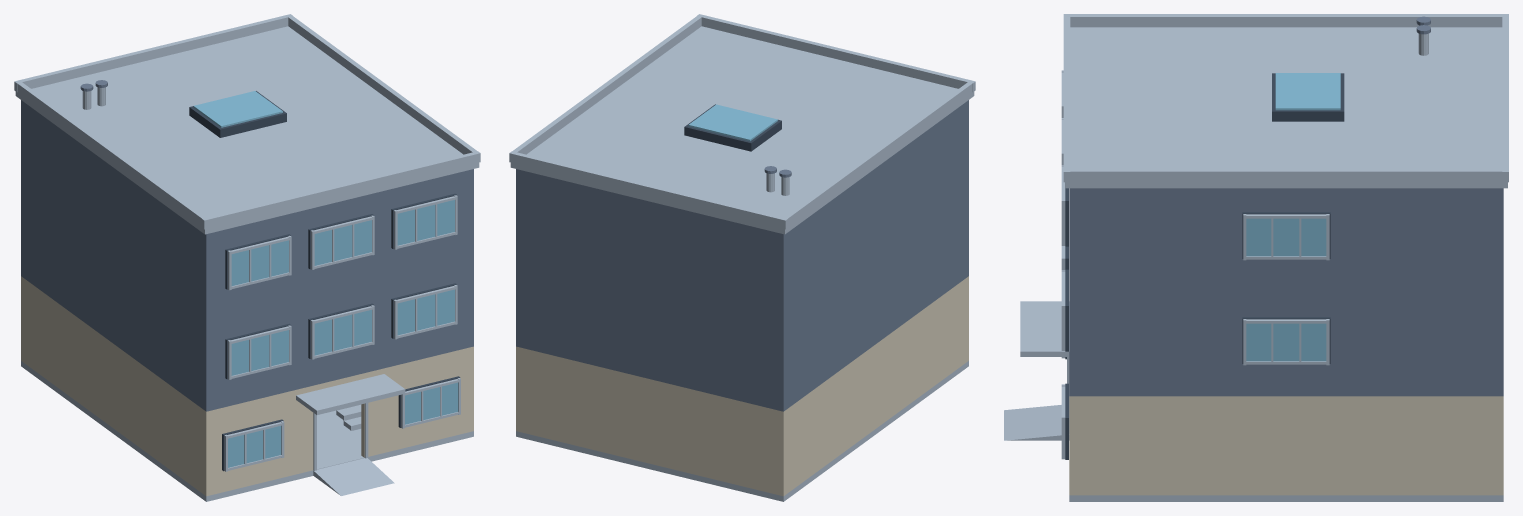
3 views of the same model, side by side, from view 1: azimuth 30°, elevation 25°; view 2: azimuth 150°, elevation 25°; view 3: azimuth 270°, elevation 25° (orthographic). The views are drawn at different scales.
Visible parts, largest first — view 1: Roof slab, Upper wall left, Upper wall left.001, Wall left, Upper wall front, Upper wall front.001, Wall front left, Wall front right, Ground floor, Roof parapet, Roof parapet.001, Roof parapet.002 (+16 smaller); view 2: Roof slab, Upper wall rear, Upper wall rear.001, Wall rear, Upper wall left, Upper wall left.001, Wall left, Roof parapet.001, Roof parapet, Ground floor, Roof parapet.002, Roof parapet.003 (+5 smaller); view 3: Roof slab, Wall right, Upper wall right, Upper wall right.001, Roof parapet.003, Roof parapet.002, Blue window pane.003, Blue window pane.007, Ground floor, Skylight glass, Entrance canopy, Entry ramp (+3 smaller).
Boxes of the visible parts, x1=… form: Roof slab: x1=15, y1=26, x2=479, y2=234; Upper wall left: x1=21, y1=186, x2=211, y2=411; Upper wall left.001: x1=21, y1=100, x2=211, y2=321; Wall left: x1=21, y1=276, x2=211, y2=496; Upper wall front: x1=211, y1=258, x2=468, y2=410; Upper wall front.001: x1=211, y1=170, x2=468, y2=320; Wall front left: x1=211, y1=385, x2=315, y2=494; Wall front right: x1=361, y1=348, x2=468, y2=457; Ground floor: x1=21, y1=361, x2=473, y2=501; Roof parapet: x1=201, y1=151, x2=480, y2=229; Roof parapet.001: x1=14, y1=14, x2=292, y2=91; Roof parapet.002: x1=16, y1=81, x2=207, y2=226; Roof slab: x1=510, y1=26, x2=974, y2=234; Upper wall rear: x1=521, y1=258, x2=778, y2=410; Upper wall rear.001: x1=521, y1=170, x2=778, y2=320; Wall rear: x1=521, y1=348, x2=778, y2=494; Upper wall left: x1=778, y1=186, x2=968, y2=411; Upper wall left.001: x1=778, y1=100, x2=968, y2=321; Wall left: x1=778, y1=276, x2=968, y2=496; Roof parapet.001: x1=509, y1=151, x2=788, y2=229; Roof parapet: x1=697, y1=14, x2=975, y2=91; Ground floor: x1=516, y1=361, x2=968, y2=501; Roof parapet.002: x1=784, y1=81, x2=973, y2=226; Roof parapet.003: x1=512, y1=15, x2=702, y2=154; Roof slab: x1=1065, y1=27, x2=1507, y2=188; Wall right: x1=1069, y1=396, x2=1503, y2=495; Upper wall right: x1=1069, y1=291, x2=1503, y2=396; Upper wall right.001: x1=1069, y1=188, x2=1503, y2=291; Roof parapet.003: x1=1070, y1=169, x2=1502, y2=182; Roof parapet.002: x1=1070, y1=14, x2=1505, y2=27; Blue window pane.003: x1=1246, y1=323, x2=1326, y2=361; Blue window pane.007: x1=1246, y1=218, x2=1326, y2=256; Ground floor: x1=1069, y1=495, x2=1503, y2=501; Skylight glass: x1=1275, y1=73, x2=1340, y2=110; Entrance canopy: x1=1020, y1=301, x2=1069, y2=356; Entry ramp: x1=1004, y1=405, x2=1069, y2=440.
Bounding box in the file's own units: 5.18 × 5.3 × 6.98.
